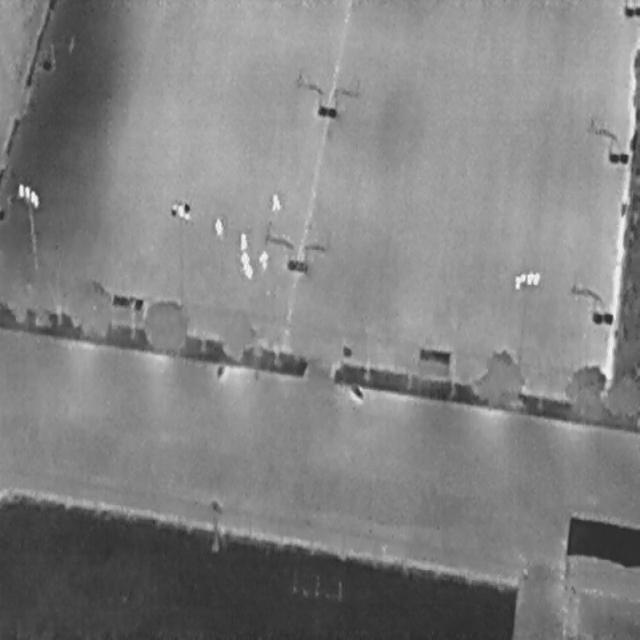Person: (213, 214, 223, 238), (258, 248, 267, 270), (271, 190, 280, 211), (240, 248, 249, 268), (243, 260, 253, 278), (239, 230, 247, 250)
